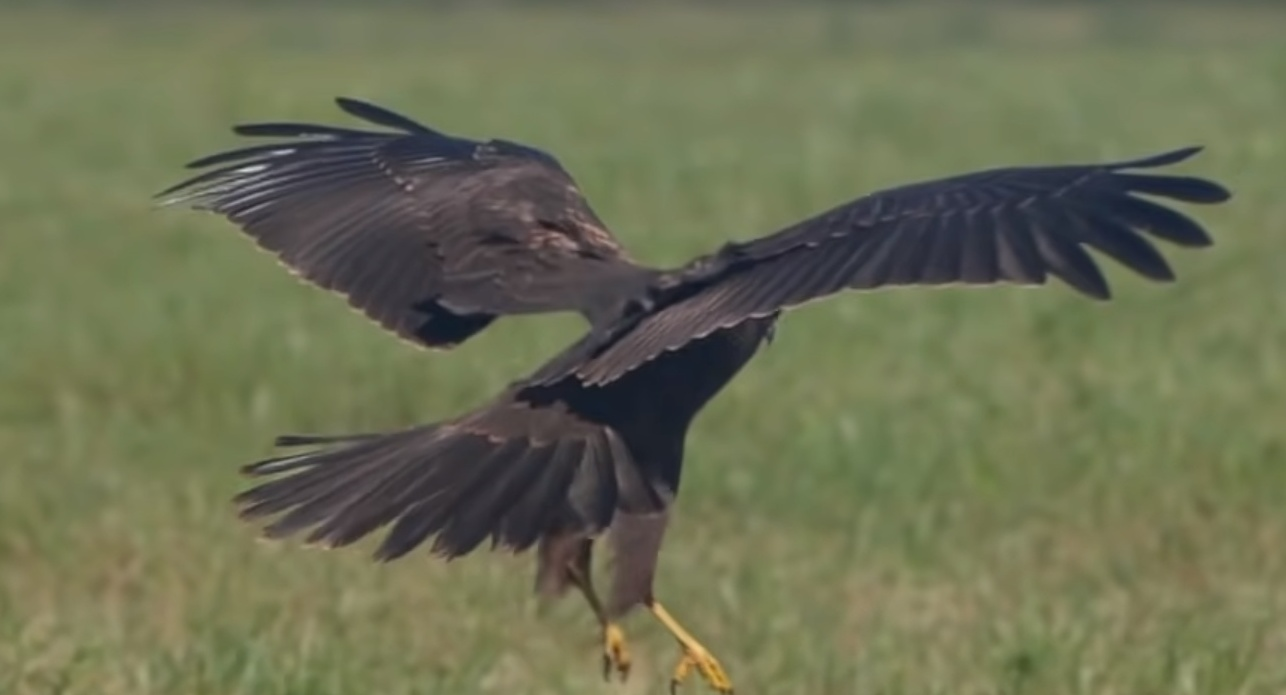bird: (150, 105, 1233, 695)
